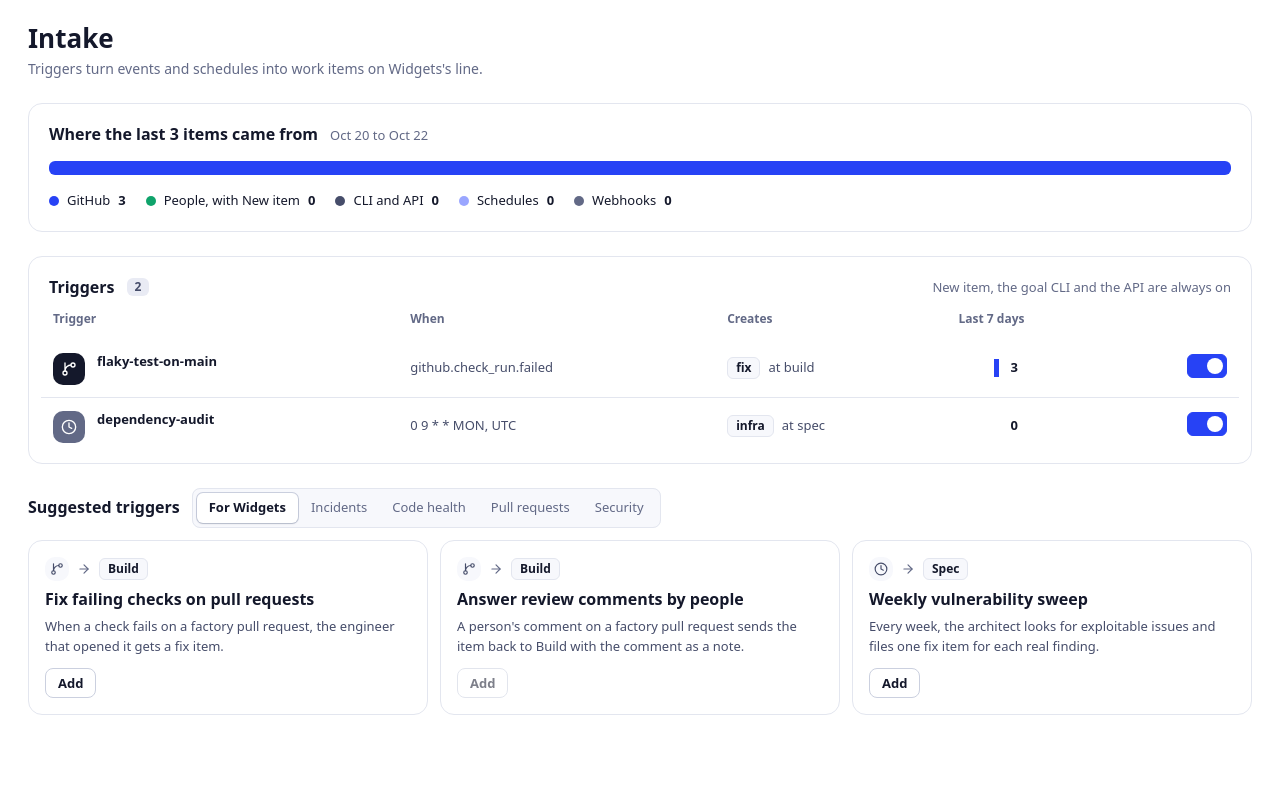
Test: the Intake switch › changes nothing while a draft is open and says to publish or discard it in Definition
Click the switch named "flaky-test-on-main": [1207, 366] box [1187, 354, 1227, 378]
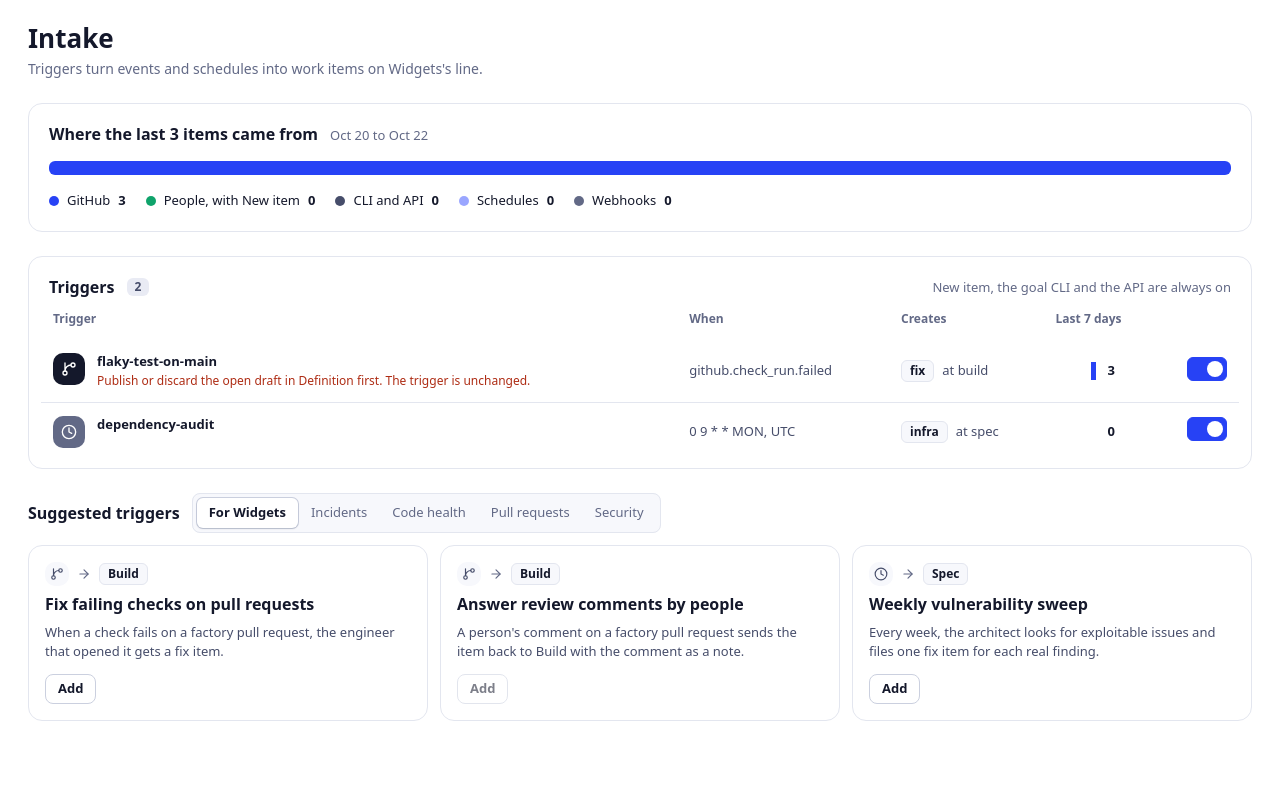
Expected: the text "Publish or discard the open draft in Definition first. The trigger is unchanged." is shown, [97, 372, 530, 390]
